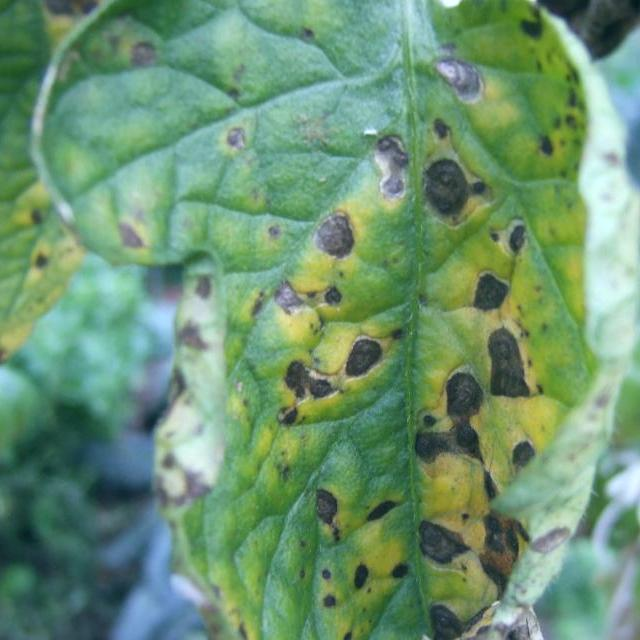Tomato Early blight leaf: (33, 0, 602, 640)
